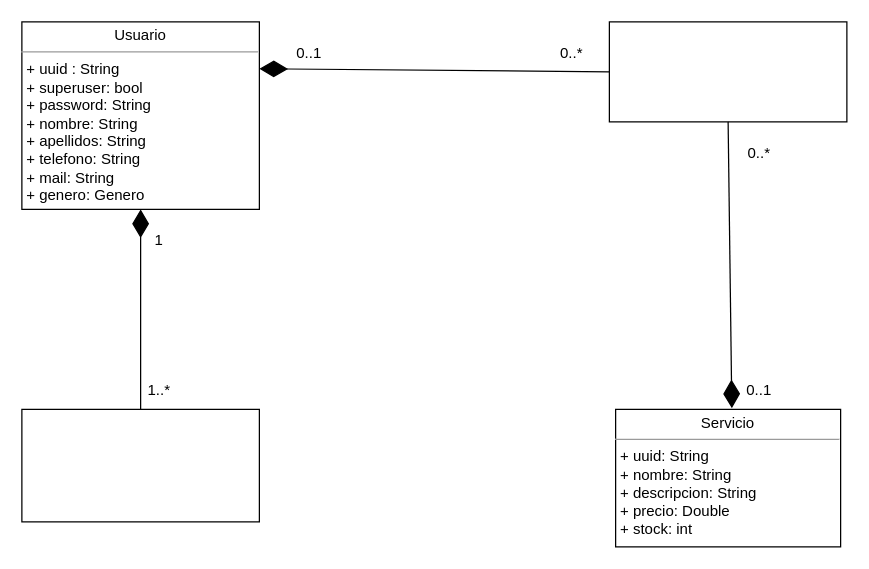
Some shapes in this 869 by 569 pixel diagram are drawn without their labels. Each missing label, with the centre of its shape:
"Cita + uuid: String + dia: Date + hora: Time" belongs at (x=727, y=71).
"Login + uuid : String + token: String + instante: DateTime" belongs at (x=140, y=465).
